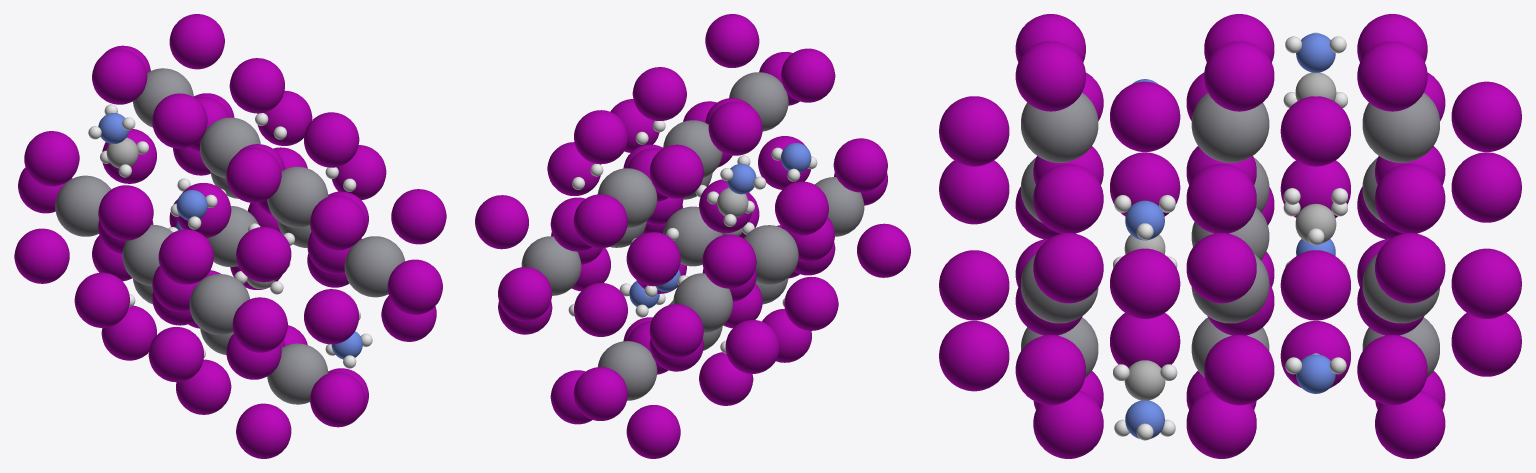
The model's file is CH3NH3PbI3_xyz.fbx.
The picture shows the model from 3 angles, left to right: view 1: azimuth 30°, elevation 25°; view 2: azimuth 150°, elevation 25°; view 3: azimuth 270°, elevation 25°; orthographic projection. The views are drawn at different scales.
Parts seen in each view (by area): view 1: Lead|Ball (NURBS)_Lead|Dupli|2.0.0.0.0.0.0.0.0, Lead|Ball (NURBS)_Lead|Dupli|0.0.0.0.0.0.0.0.0, Lead|Ball (NURBS)_Lead|Dupli|8.0.0.0.0.0.0.0.0, Lead|Ball (NURBS)_Lead|Dupli|9.0.0.0.0.0.0.0.0, Iodine|Ball (NURBS)_Iodine|Dupli|18.0.0.0.0.0.0.0.0, Iodine|Ball (NURBS)_Iodine|Dupli|37.0.0.0.0.0.0.0.0, Iodine|Ball (NURBS)_Iodine|Dupli|15.0.0.0.0.0.0.0.0, Iodine|Ball (NURBS)_Iodine|Dupli|17.0.0.0.0.0.0.0.0, Iodine|Ball (NURBS)_Iodine|Dupli|24.0.0.0.0.0.0.0.0, Lead|Ball (NURBS)_Lead|Dupli|1.0.0.0.0.0.0.0.0, Iodine|Ball (NURBS)_Iodine|Dupli|33.0.0.0.0.0.0.0.0, Iodine|Ball (NURBS)_Iodine|Dupli|21.0.0.0.0.0.0.0.0 (+40 smaller); view 2: Iodine|Ball (NURBS)_Iodine|Dupli|49.0.0.0.0.0.0.0.0, Iodine|Ball (NURBS)_Iodine|Dupli|33.0.0.0.0.0.0.0.0, Iodine|Ball (NURBS)_Iodine|Dupli|18.0.0.0.0.0.0.0.0, Lead|Ball (NURBS)_Lead|Dupli|6.0.0.0.0.0.0.0.0, Iodine|Ball (NURBS)_Iodine|Dupli|43.0.0.0.0.0.0.0.0, Iodine|Ball (NURBS)_Iodine|Dupli|13.0.0.0.0.0.0.0.0, Iodine|Ball (NURBS)_Iodine|Dupli|20.0.0.0.0.0.0.0.0, Iodine|Ball (NURBS)_Iodine|Dupli|35.0.0.0.0.0.0.0.0, Iodine|Ball (NURBS)_Iodine|Dupli|51.0.0.0.0.0.0.0.0, Iodine|Ball (NURBS)_Iodine|Dupli|19.0.0.0.0.0.0.0.0, Iodine|Ball (NURBS)_Iodine|Dupli|50.0.0.0.0.0.0.0.0, Iodine|Ball (NURBS)_Iodine|Dupli|36.0.0.0.0.0.0.0.0 (+40 smaller); view 3: Iodine|Ball (NURBS)_Iodine|Dupli|27.0.0.0.0.0.0.0.0, Iodine|Ball (NURBS)_Iodine|Dupli|35.0.0.0.0.0.0.0.0, Iodine|Ball (NURBS)_Iodine|Dupli|45.0.0.0.0.0.0.0.0, Iodine|Ball (NURBS)_Iodine|Dupli|24.0.0.0.0.0.0.0.0, Iodine|Ball (NURBS)_Iodine|Dupli|28.0.0.0.0.0.0.0.0, Iodine|Ball (NURBS)_Iodine|Dupli|38.0.0.0.0.0.0.0.0, Iodine|Ball (NURBS)_Iodine|Dupli|39.0.0.0.0.0.0.0.0, Iodine|Ball (NURBS)_Iodine|Dupli|51.0.0.0.0.0.0.0.0, Iodine|Ball (NURBS)_Iodine|Dupli|19.0.0.0.0.0.0.0.0, Iodine|Ball (NURBS)_Iodine|Dupli|22.0.0.0.0.0.0.0.0, Iodine|Ball (NURBS)_Iodine|Dupli|26.0.0.0.0.0.0.0.0, Iodine|Ball (NURBS)_Iodine|Dupli|44.0.0.0.0.0.0.0.0 (+49 smaller).
Boxes of the visible parts, x1,y1,x2,y2 form: Lead|Ball (NURBS)_Lead|Dupli|2.0.0.0.0.0.0.0.0: [344, 236, 405, 297]; Lead|Ball (NURBS)_Lead|Dupli|0.0.0.0.0.0.0.0.0: [189, 274, 249, 334]; Lead|Ball (NURBS)_Lead|Dupli|8.0.0.0.0.0.0.0.0: [267, 343, 328, 404]; Lead|Ball (NURBS)_Lead|Dupli|9.0.0.0.0.0.0.0.0: [267, 166, 328, 227]; Iodine|Ball (NURBS)_Iodine|Dupli|18.0.0.0.0.0.0.0.0: [24, 131, 79, 186]; Iodine|Ball (NURBS)_Iodine|Dupli|37.0.0.0.0.0.0.0.0: [98, 185, 153, 240]; Iodine|Ball (NURBS)_Iodine|Dupli|15.0.0.0.0.0.0.0.0: [232, 297, 287, 352]; Iodine|Ball (NURBS)_Iodine|Dupli|17.0.0.0.0.0.0.0.0: [14, 228, 69, 283]; Iodine|Ball (NURBS)_Iodine|Dupli|24.0.0.0.0.0.0.0.0: [391, 189, 446, 244]; Lead|Ball (NURBS)_Lead|Dupli|1.0.0.0.0.0.0.0.0: [55, 175, 111, 236]; Iodine|Ball (NURBS)_Iodine|Dupli|33.0.0.0.0.0.0.0.0: [152, 93, 207, 148]; Iodine|Ball (NURBS)_Iodine|Dupli|21.0.0.0.0.0.0.0.0: [304, 289, 359, 344]; Iodine|Ball (NURBS)_Iodine|Dupli|49.0.0.0.0.0.0.0.0: [649, 144, 703, 198]; Iodine|Ball (NURBS)_Iodine|Dupli|33.0.0.0.0.0.0.0.0: [708, 101, 762, 155]; Iodine|Ball (NURBS)_Iodine|Dupli|18.0.0.0.0.0.0.0.0: [702, 234, 756, 288]; Lead|Ball (NURBS)_Lead|Dupli|6.0.0.0.0.0.0.0.0: [744, 225, 798, 284]; Iodine|Ball (NURBS)_Iodine|Dupli|43.0.0.0.0.0.0.0.0: [781, 48, 835, 102]; Iodine|Ball (NURBS)_Iodine|Dupli|13.0.0.0.0.0.0.0.0: [833, 138, 887, 192]; Iodine|Ball (NURBS)_Iodine|Dupli|20.0.0.0.0.0.0.0.0: [626, 232, 680, 286]; Iodine|Ball (NURBS)_Iodine|Dupli|35.0.0.0.0.0.0.0.0: [632, 67, 686, 120]; Iodine|Ball (NURBS)_Iodine|Dupli|51.0.0.0.0.0.0.0.0: [574, 110, 627, 164]; Iodine|Ball (NURBS)_Iodine|Dupli|19.0.0.0.0.0.0.0.0: [649, 304, 703, 357]; Iodine|Ball (NURBS)_Iodine|Dupli|50.0.0.0.0.0.0.0.0: [573, 194, 627, 248]; Iodine|Ball (NURBS)_Iodine|Dupli|36.0.0.0.0.0.0.0.0: [784, 277, 838, 330]; Iodine|Ball (NURBS)_Iodine|Dupli|27.0.0.0.0.0.0.0.0: [1280, 250, 1350, 320]; Iodine|Ball (NURBS)_Iodine|Dupli|35.0.0.0.0.0.0.0.0: [1204, 41, 1274, 111]; Iodine|Ball (NURBS)_Iodine|Dupli|45.0.0.0.0.0.0.0.0: [1015, 41, 1085, 111]; Iodine|Ball (NURBS)_Iodine|Dupli|24.0.0.0.0.0.0.0.0: [1033, 233, 1103, 303]; Iodine|Ball (NURBS)_Iodine|Dupli|28.0.0.0.0.0.0.0.0: [1357, 335, 1427, 405]; Iodine|Ball (NURBS)_Iodine|Dupli|38.0.0.0.0.0.0.0.0: [1204, 335, 1274, 405]; Iodine|Ball (NURBS)_Iodine|Dupli|39.0.0.0.0.0.0.0.0: [1186, 233, 1256, 303]; Iodine|Ball (NURBS)_Iodine|Dupli|51.0.0.0.0.0.0.0.0: [1357, 41, 1427, 111]; Iodine|Ball (NURBS)_Iodine|Dupli|19.0.0.0.0.0.0.0.0: [1451, 152, 1521, 222]; Iodine|Ball (NURBS)_Iodine|Dupli|22.0.0.0.0.0.0.0.0: [939, 250, 1009, 320]; Iodine|Ball (NURBS)_Iodine|Dupli|26.0.0.0.0.0.0.0.0: [1451, 248, 1521, 318]; Iodine|Ball (NURBS)_Iodine|Dupli|44.0.0.0.0.0.0.0.0: [939, 96, 1009, 166].
Bounding box in the file's own units: 1648 × 1758 × 2201.
